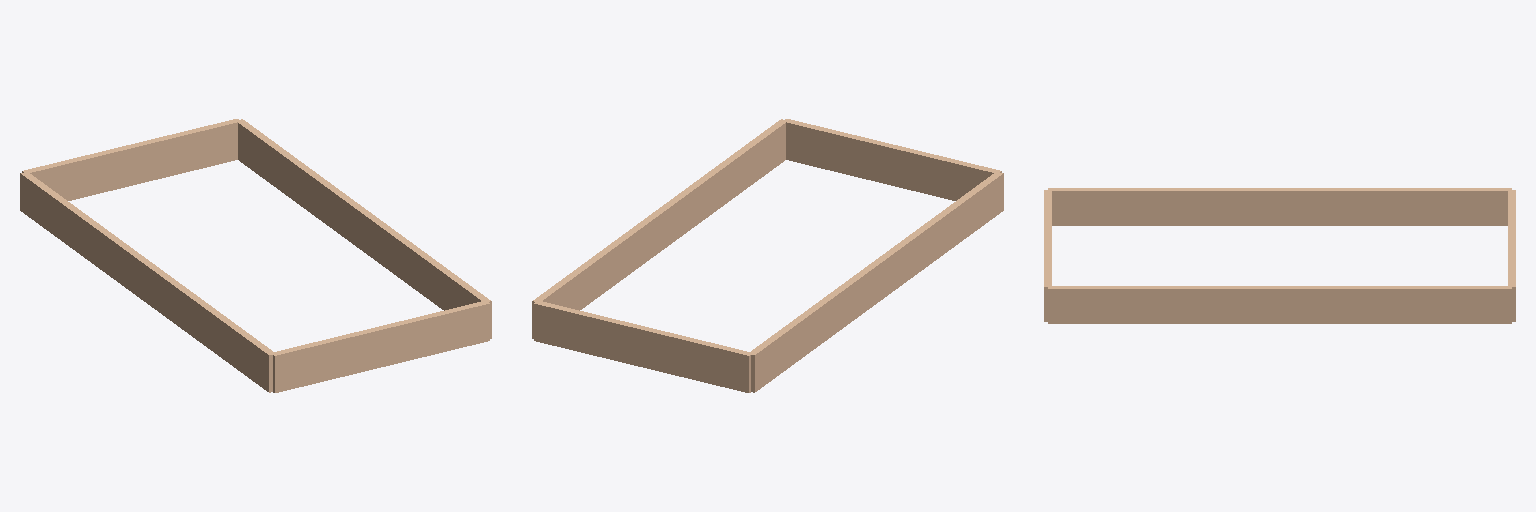
robot.urdf — walls:
<?xml version="1.0"?>
<robot name="walls">
  <!--Room 0-->
  <link name="wall_link0">
    <visual>
      <origin xyz="3 0 0" rpy="0 0 0" />
      <geometry>
        <box size="0.2 12 1" />
      </geometry>
      <material name="desert sand">
        <color rgba="0.9297 0.7930 0.6758 1" />
      </material>
    </visual>
    <collision>
      <origin xyz="3 0 0" rpy="0 0 0" />
      <geometry>
        <box size="0.2 12 1" />
      </geometry>
    </collision>
  </link>
  <joint name="joint01" type="fixed">
    <parent link="wall_link0"/>
    <child link="wall_link1"/>
    <origin xyz="0 0 0"/>
  </joint>
  <link name="wall_link1">
    <visual>
      <origin xyz="-3 0 0" rpy="0 0 0" />
      <geometry>
        <box size="0.2 12 1" />
      </geometry>
      <material name="desert sand">
        <color rgba="0.9297 0.7930 0.6758 1" />
      </material>
    </visual>
    <collision>
      <origin xyz="-3 0 0" rpy="0 0 0" />
      <geometry>
        <box size="0.2 12 1" />
      </geometry>
    </collision>
  </link>
  <joint name="joint12" type="fixed">
    <parent link="wall_link1"/>
    <child link="wall_link2"/>
    <origin xyz="0 0 0"/>
  </joint>
  <link name="wall_link2">
    <visual>
      <origin xyz="0 -6 0" rpy="0 0 0" />
      <geometry>
        <box size="6 0.2 1" />
      </geometry>
      <material name="desert sand">
        <color rgba="0.9297 0.7930 0.6758 1" />
      </material>
    </visual>
    <collision>
      <origin xyz="0 -6 0" rpy="0 0 0" />
      <geometry>
        <box size="6 0.2 1" />
      </geometry>
    </collision>
  </link>
  <joint name="joint03" type="fixed">
    <parent link="wall_link0"/>
    <child link="wall_link3"/>
    <origin xyz="0 0 0"/>
  </joint>
  <link name="wall_link3">
    <visual>
      <origin xyz="0 6 0" rpy="0 0 0" />
      <geometry>
        <box size="6 0.2 1" />
      </geometry>
      <material name="desert sand">
        <color rgba="0.9297 0.7930 0.6758 1" />
      </material>
    </visual>
    <collision>
      <origin xyz="0 6 0" rpy="0 0 0" />
      <geometry>
        <box size="6 0.2 1" />
      </geometry>
    </collision>
  </link>
</robot>

--- Facts derived from the render (not from the file) ---
3 views of the same robot in one strip: view 1: azimuth 30°, elevation 25°; view 2: azimuth 150°, elevation 25°; view 3: azimuth 270°, elevation 25° (orthographic).
Model walls with 4 links and 3 joints (3 fixed), rooted at wall_link0, posed all joints at 0.
Visible links, largest first — view 1: wall_link1, wall_link0, wall_link2, wall_link3; view 2: wall_link1, wall_link0, wall_link3, wall_link2; view 3: wall_link0, wall_link1, wall_link2, wall_link3.
Link boxes in pixels (box(x1,y1,x2,y2)): wall_link1: box(20, 172, 275, 392); wall_link0: box(237, 119, 491, 338); wall_link2: box(271, 301, 489, 392); wall_link3: box(22, 119, 240, 200); wall_link1: box(748, 172, 1003, 392); wall_link0: box(532, 119, 786, 338); wall_link3: box(534, 301, 751, 392); wall_link2: box(784, 119, 1001, 200); wall_link0: box(1048, 286, 1511, 323); wall_link1: box(1048, 188, 1511, 225); wall_link2: box(1044, 190, 1051, 321); wall_link3: box(1508, 190, 1515, 321).
Bounding box of the posed robot: 6.2 × 12.2 × 1 m (x, y, z).
Geometry: primitives only (box / cylinder / sphere), no mesh files.